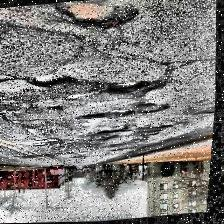pothole: (52, 1, 140, 36), (31, 71, 75, 89), (84, 108, 134, 122), (109, 80, 152, 96), (136, 101, 170, 117), (99, 125, 134, 136), (200, 110, 216, 116)
